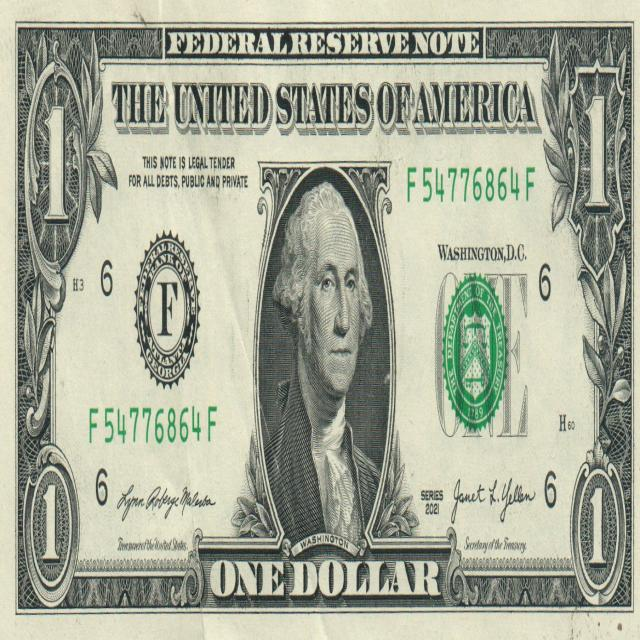SerialNumber: (408, 167, 535, 202), (89, 406, 203, 443)
